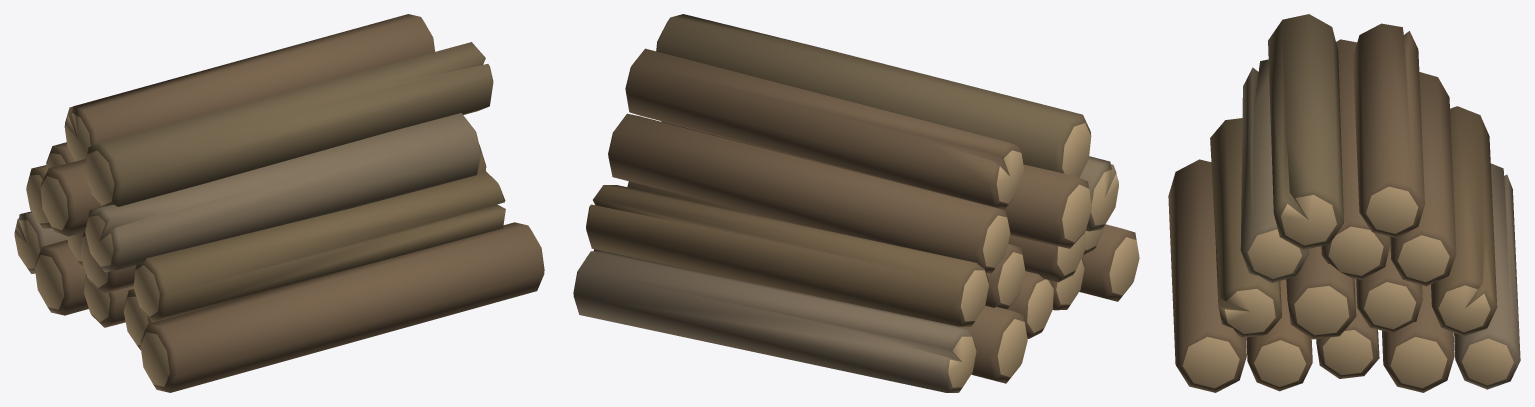
File: Log_pile.glb
3 views of the same model, side by side, from view 1: azimuth 30°, elevation 25°; view 2: azimuth 150°, elevation 25°; view 3: azimuth 270°, elevation 25° (orthographic). The views are drawn at different scales.
Visible parts, largest first — view 1: Log_Pile; view 2: Log_Pile; view 3: Log_Pile.
Boxes of the visible parts, box(x1,y1,x2,y2) form: Log_Pile: box(14, 14, 544, 392); Log_Pile: box(573, 14, 1139, 392); Log_Pile: box(1168, 14, 1520, 392).
Size of the model in its own units: 2.29 by 1.18 by 1.75.
Materials: 1 (1 with a texture image).
